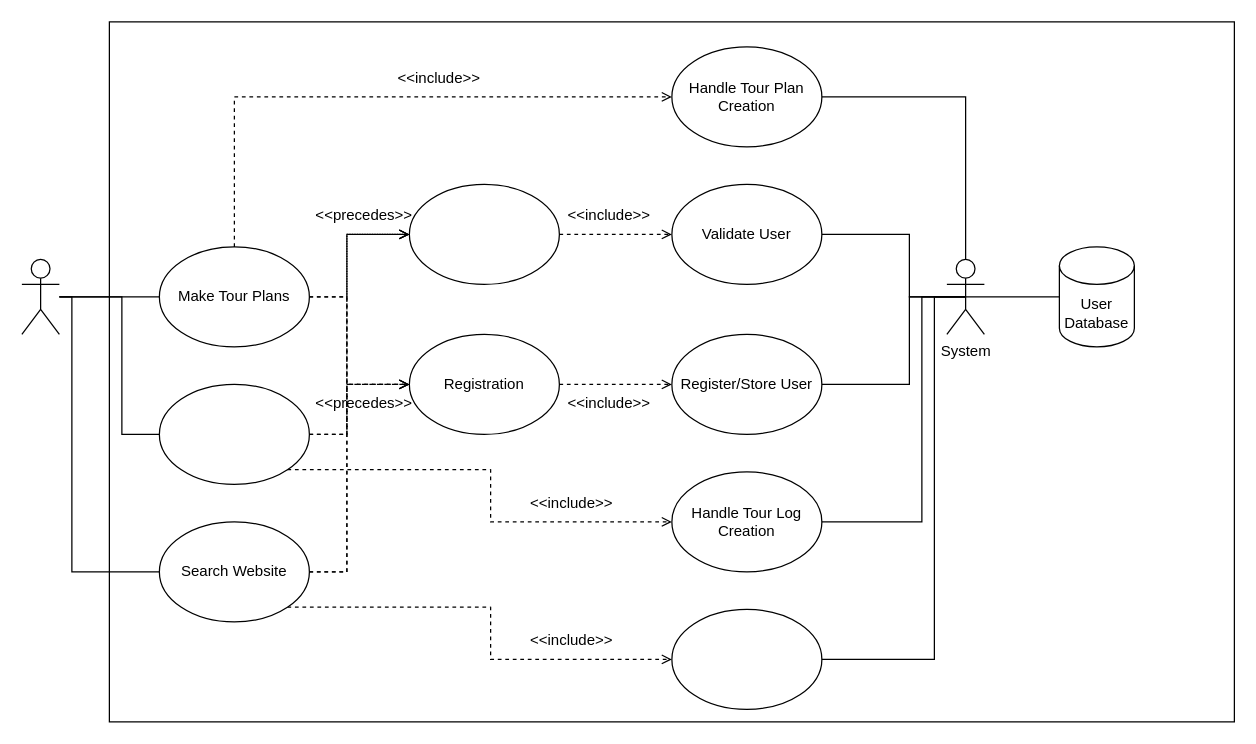
Image size: 1256x744. Some labels were removed from this diagram. The box of each missing label's shape, as (x1, y1, x2, y2) in pixels:
Handle search on Website: (671, 608, 822, 709)
Login: (408, 183, 559, 284)
Make Tour Logs: (158, 383, 309, 484)
User: (21, 258, 59, 334)
